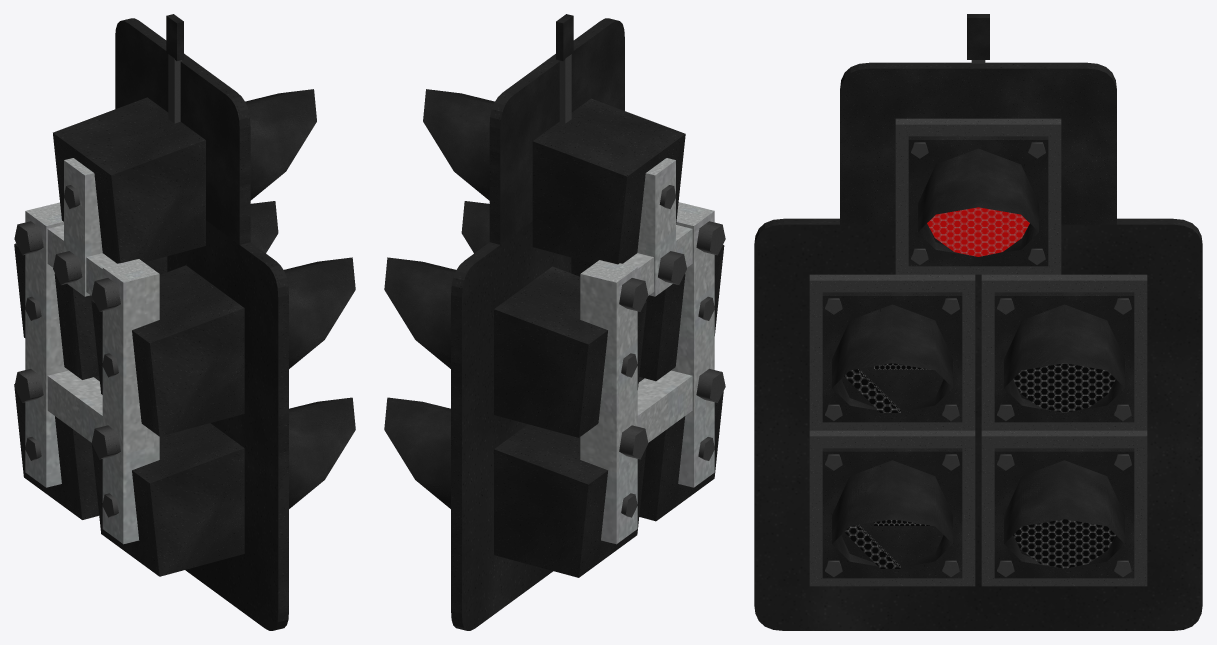
File: GSDTrafficLightLeftYield.FBX
3 renders of one model, left to right at view 1: azimuth 30°, elevation 25°; view 2: azimuth 150°, elevation 25°; view 3: azimuth 270°, elevation 25°, orthographic. The views are drawn at different scales.
Visible parts, largest first — view 1: LightBase; view 2: LightBase; view 3: LightBase, Lights.
Boxes of the visible parts, x1,y1,x2,y2 form: LightBase: (14, 14, 355, 630); LightBase: (384, 14, 725, 630); LightBase: (754, 14, 1202, 630); Lights: (844, 207, 1115, 568).
Size of the model in its own units: 0.7001 by 0.9651 by 1.44.
